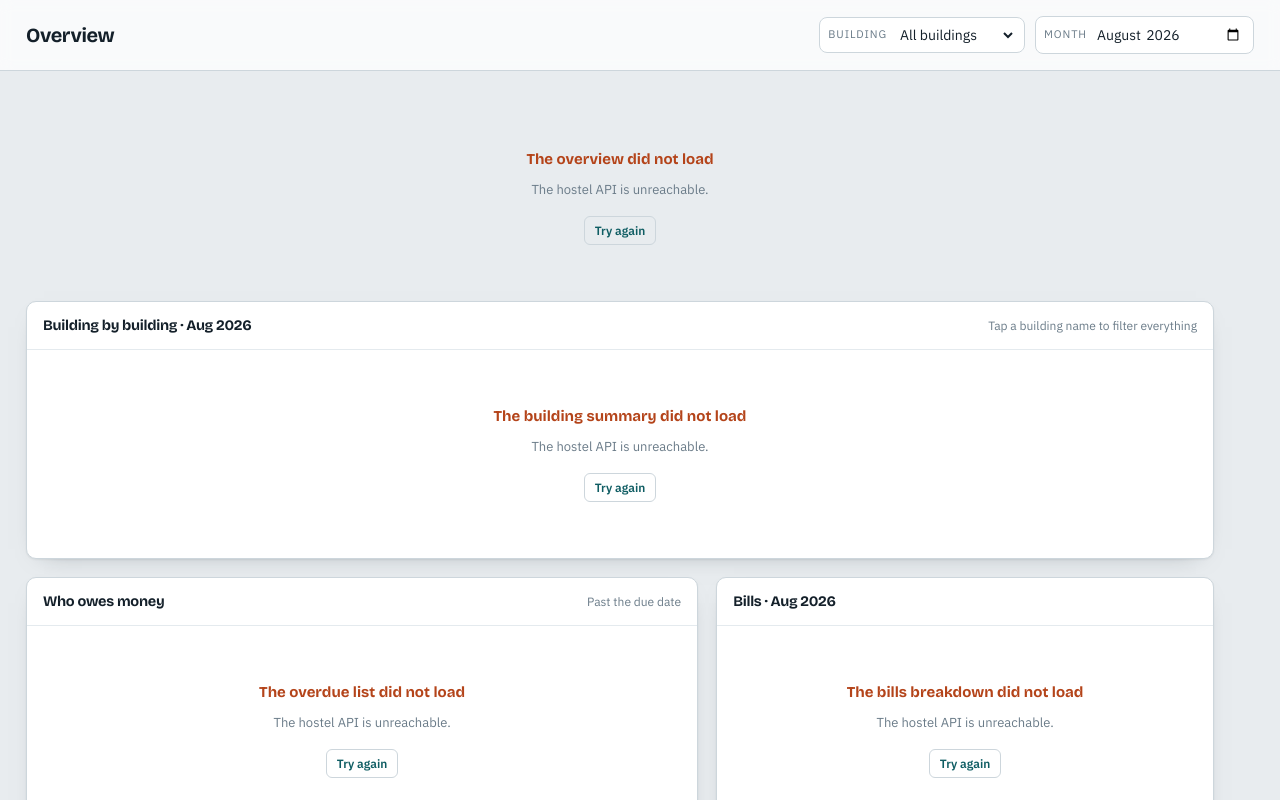
Test: OverviewPage › when the request fails › shows an error state and refetches from its retry control
expect the text "The overview did not load" is shown: met, box [526,150,714,168]
expect the text "The hostel API is unreachable." below "The overview did not load" is shown: met, box [531,181,709,198]
Step 1. Click the button "Try again" below "The overview did not load" → coordinates (620, 231), box [584,216,656,245]
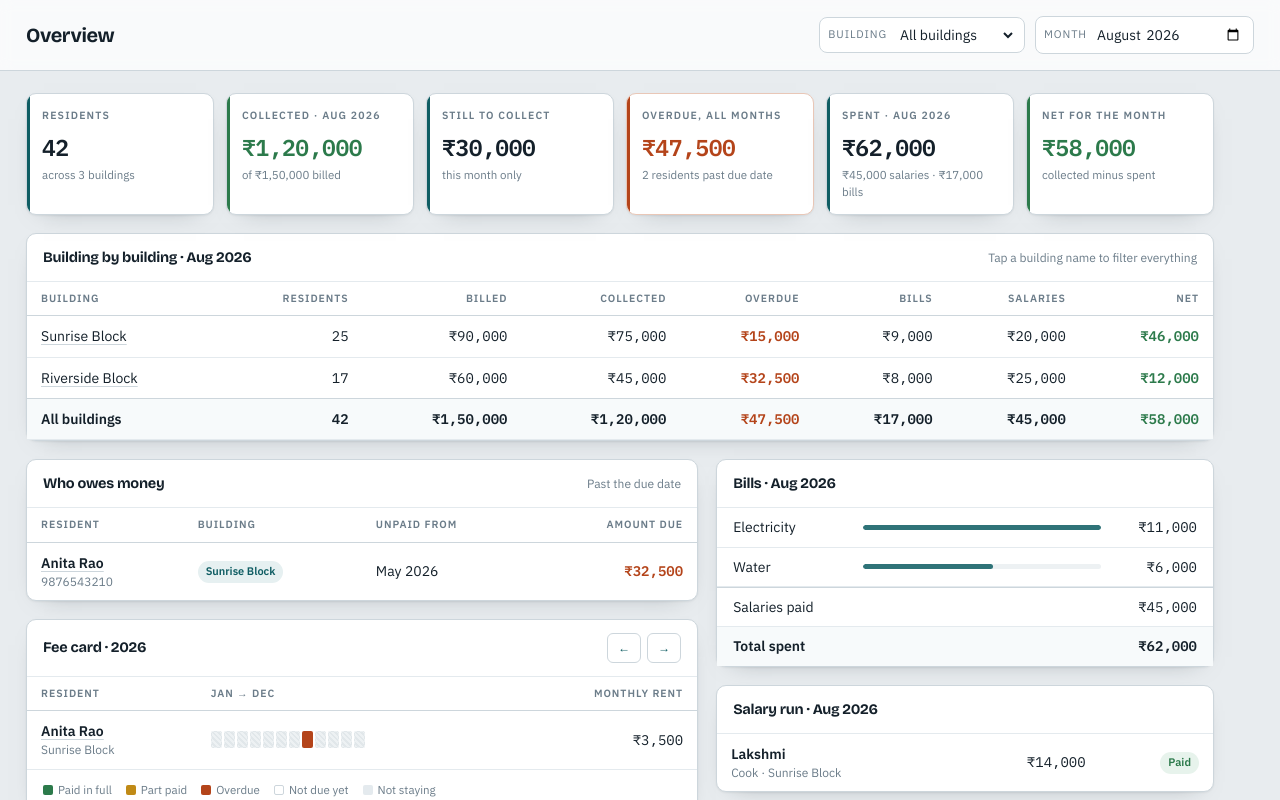
expect the number of elements with class "eyebrow" is 6: met, box [42,108,110,122]; [242,108,398,124]; [442,108,550,122]; [642,108,798,124]; [842,108,951,122]; [1042,108,1166,122]
expect the text "The overview did not load" is gone: met
